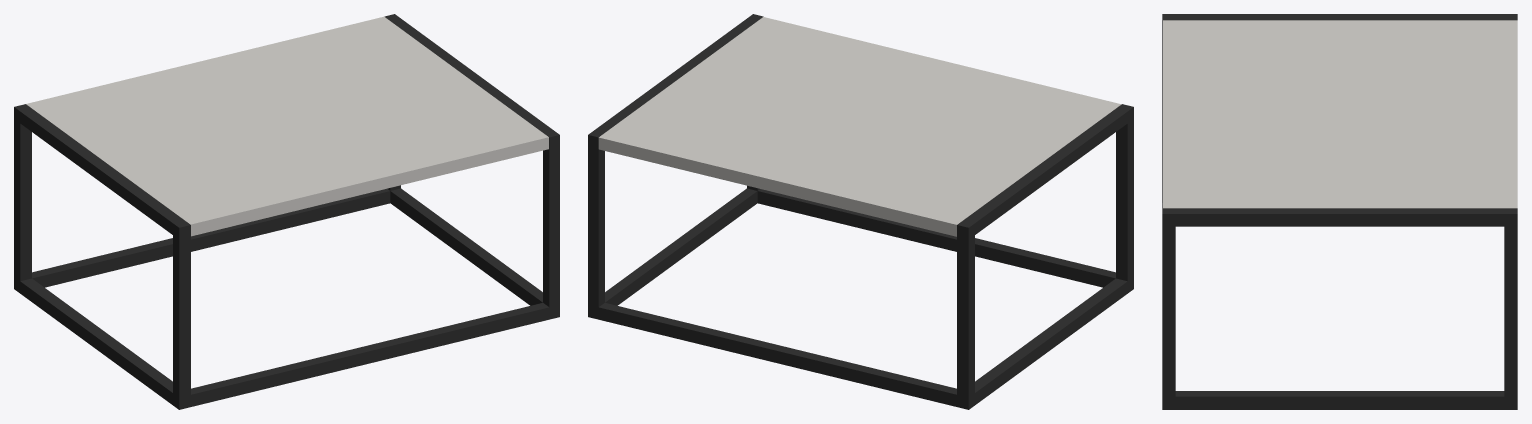
The model's file is table5.fbx.
3 views of the same model, side by side, from view 1: azimuth 30°, elevation 25°; view 2: azimuth 150°, elevation 25°; view 3: azimuth 270°, elevation 25° (orthographic). The views are drawn at different scales.
Parts seen in each view (by area): view 1: Cube.001; view 2: Cube.001; view 3: Cube.001.
Part boxes in pixels (bbox=[...]): Cube.001: bbox=[14, 14, 559, 409]; Cube.001: bbox=[588, 14, 1133, 409]; Cube.001: bbox=[1162, 14, 1517, 409].
Bounding box in the file's own units: 6460 × 2953 × 4853.
